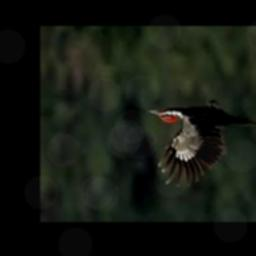Woodpecker: (147, 100, 256, 188)
